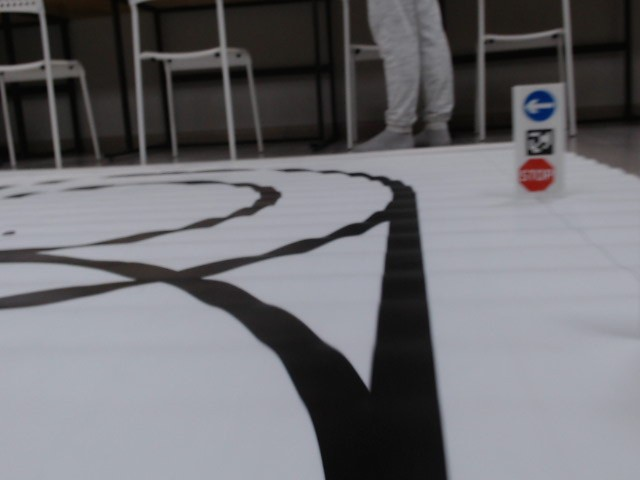Stop: (518, 157, 555, 193)
